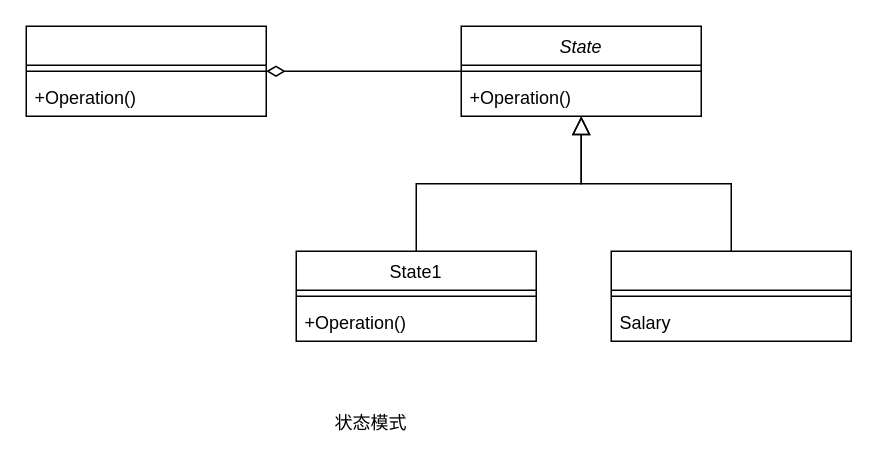
Image size: 878x473. Some labels were removed from this diagram. Each missing label, with the box of its shape:
Context: (25, 25, 266, 116)
State2: (610, 250, 851, 341)
